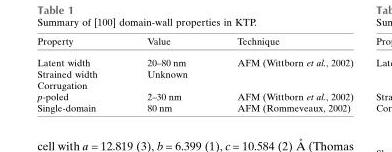table: (36, 36, 352, 112)
table column: (211, 36, 352, 112), (121, 36, 211, 112), (36, 36, 121, 112)
table column header: (36, 36, 352, 52)
table projected row header: (36, 79, 352, 91)
table row: (36, 36, 352, 52), (36, 52, 352, 68), (36, 79, 352, 91), (36, 68, 352, 79), (36, 91, 352, 102), (36, 102, 352, 112)
